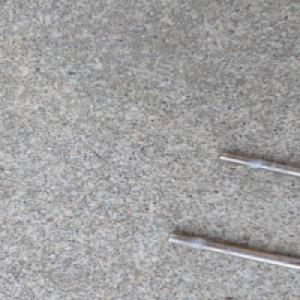ClampPart: (163, 150, 300, 271)
